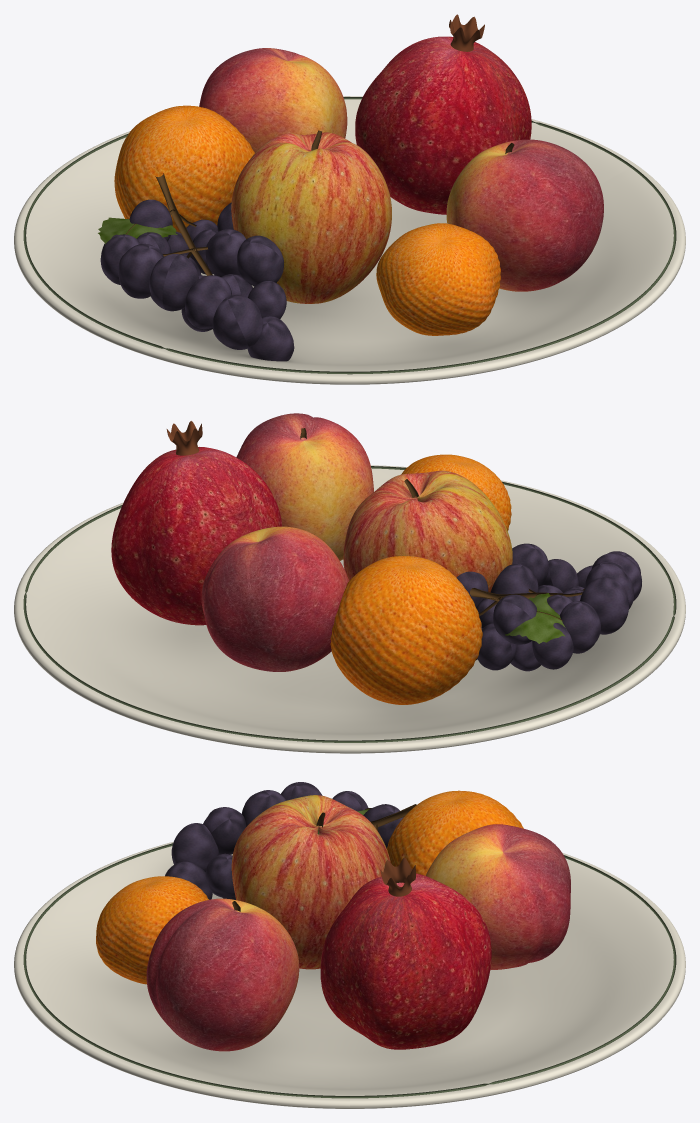
The model's file is fruits-real-v1.glb.
The picture shows the model from 3 angles, top to bottom: view 1: azimuth 30°, elevation 25°; view 2: azimuth 150°, elevation 25°; view 3: azimuth 270°, elevation 25°; orthographic projection.
Parts seen in each view (by area): view 1: Porcelain plate - rolled lip and foot, Ruby pomegranate, Gala apple, Blushed peach front, Navel orange, Small mandarin, Blushed peach rear, Hand-glazed olive rim, Grape 5-0, Grape 3-0, Grape 3-3, Grape 2-0 (+9 smaller); view 2: Porcelain plate - rolled lip and foot, Ruby pomegranate, Navel orange, Blushed peach rear, Gala apple, Blushed peach front, Hand-glazed olive rim, Small mandarin, Grape 2-0, Grape 1-0, Grape 0-1, Grape leaf (+10 smaller); view 3: Porcelain plate - rolled lip and foot, Ruby pomegranate, Blushed peach front, Gala apple, Blushed peach rear, Small mandarin, Navel orange, Hand-glazed olive rim, Grape 5-0, Grape 4-0, Grape 4-2, Pomegranate open six-point crown (+4 smaller).
Part boxes in pixels (left/top/right/bottom): Porcelain plate - rolled lip and foot: left=14, top=96, right=685, bottom=384; Ruby pomegranate: left=355, top=36, right=531, bottom=214; Gala apple: left=231, top=132, right=391, bottom=303; Blushed peach front: left=446, top=139, right=603, bottom=291; Navel orange: left=114, top=105, right=254, bottom=232; Small mandarin: left=376, top=223, right=500, bottom=335; Blushed peach rear: left=199, top=48, right=347, bottom=152; Hand-glazed olive rim: left=23, top=97, right=676, bottom=374; Grape 5-0: left=212, top=295, right=263, bottom=349; Grape 3-0: left=149, top=254, right=198, bottom=311; Grape 3-3: left=237, top=235, right=284, bottom=286; Grape 2-0: left=118, top=243, right=163, bottom=298; Porcelain plate - rolled lip and foot: left=14, top=465, right=685, bottom=753; Ruby pomegranate: left=111, top=447, right=282, bottom=625; Navel orange: left=330, top=556, right=482, bottom=704; Blushed peach rear: left=201, top=526, right=349, bottom=671; Gala apple: left=343, top=470, right=512, bottom=592; Blushed peach front: left=236, top=413, right=373, bottom=560; Hand-glazed olive rim: left=23, top=466, right=676, bottom=742; Small mandarin: left=401, top=454, right=511, bottom=530; Grape 2-0: left=580, top=577, right=628, bottom=634; Grape 1-0: left=560, top=601, right=600, bottom=653; Grape 0-1: left=493, top=594, right=536, bottom=644; Grape leaf: left=505, top=593, right=566, bottom=643; Porcelain plate - rolled lip and foot: left=14, top=842, right=685, bottom=1108; Ruby pomegranate: left=320, top=873, right=491, bottom=1049; Blushed peach front: left=146, top=898, right=299, bottom=1051; Gala apple: left=231, top=795, right=390, bottom=969; Blushed peach rear: left=425, top=824, right=570, bottom=969; Small mandarin: left=96, top=876, right=208, bottom=984; Navel orange: left=387, top=790, right=523, bottom=875; Hand-glazed olive rim: left=23, top=843, right=676, bottom=1098; Grape 5-0: left=171, top=823, right=219, bottom=871; Grape 4-0: left=203, top=807, right=246, bottom=854; Grape 4-2: left=205, top=853, right=235, bottom=897; Pomegranate open six-point crown: left=380, top=857, right=415, bottom=896.
Size of the model in its own units: 0.341 by 0.1193 by 0.341.
Materials: 10 (6 with a texture image).
